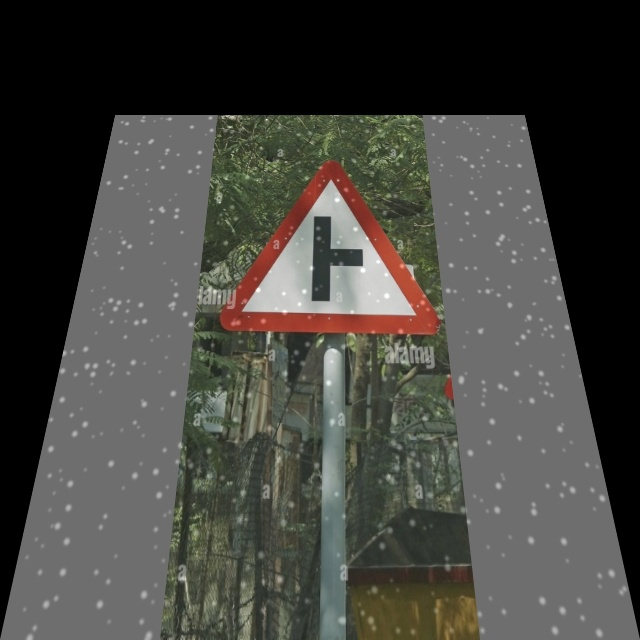Side_Road_Right: (222, 158, 440, 338)
